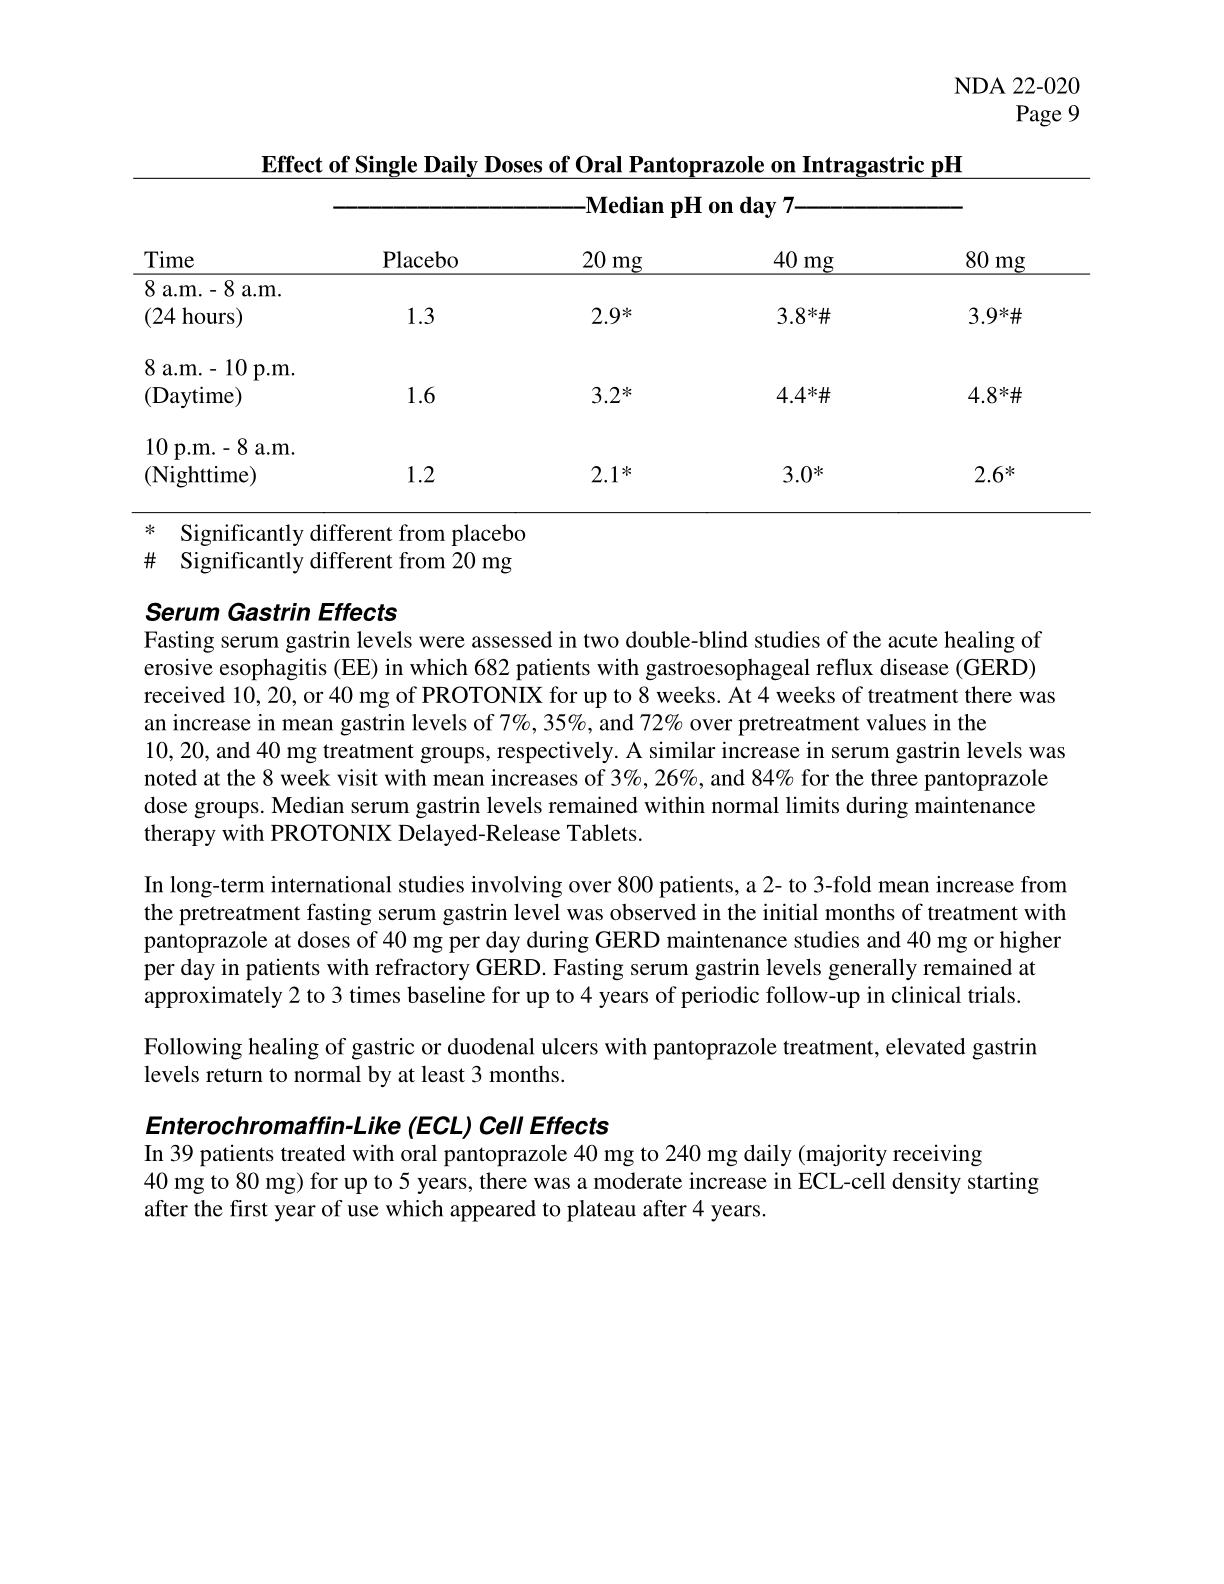partial_lined_merged_cells: (129, 176, 1099, 517)
